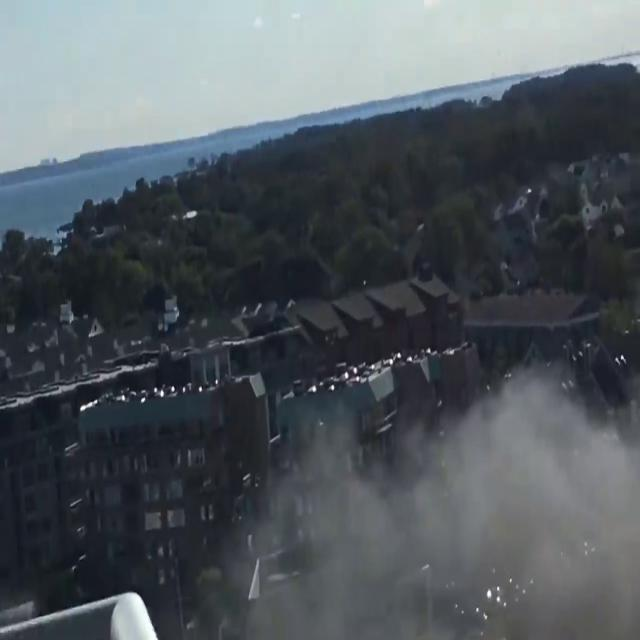Smoke: (215, 319, 640, 635)
